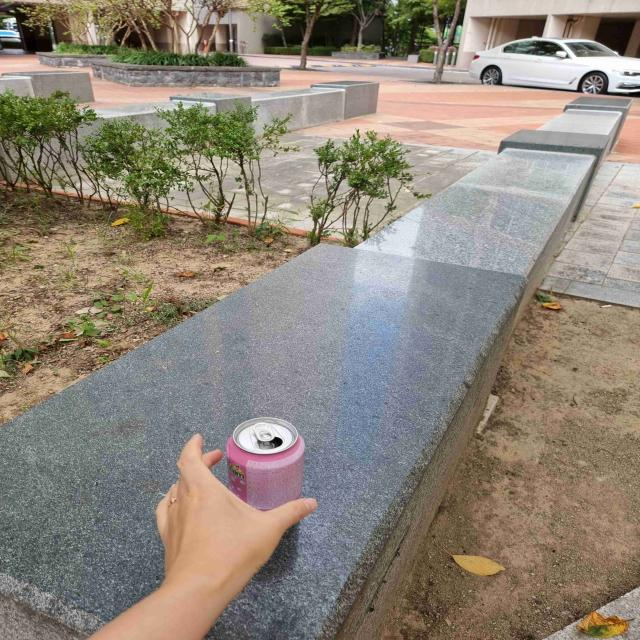can: (222, 416, 306, 512)
